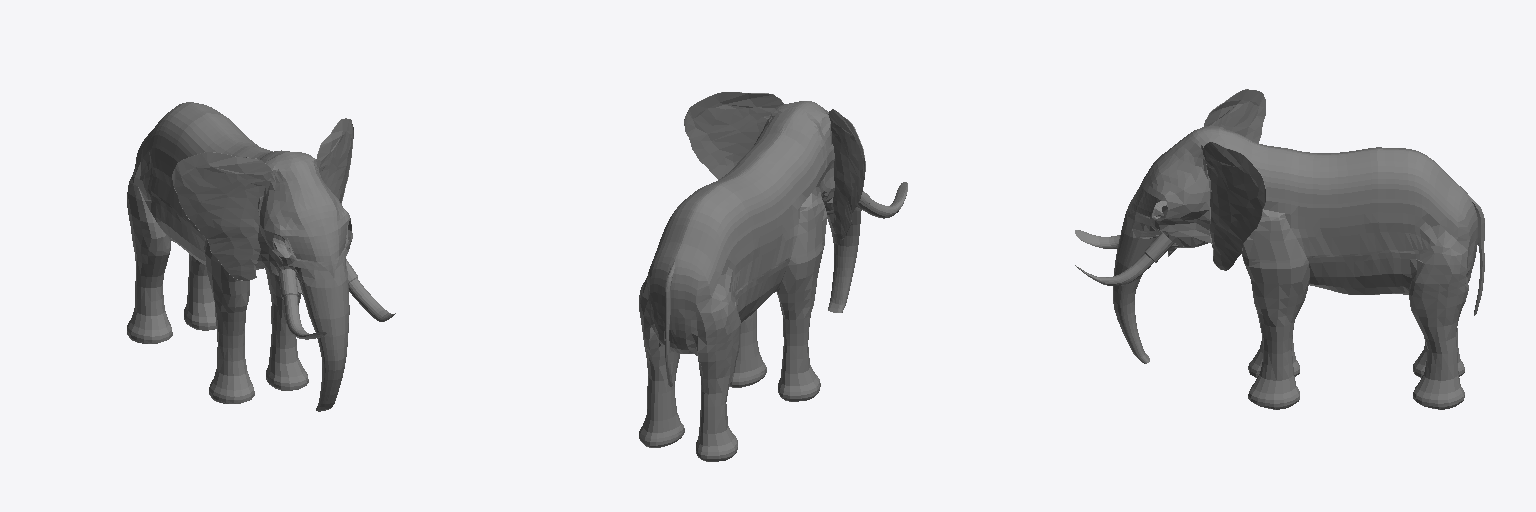
3 renders of one model, left to right at view 1: azimuth 30°, elevation 25°; view 2: azimuth 150°, elevation 25°; view 3: azimuth 270°, elevation 25°, orthographic.
Visible parts, largest first — view 1: Plane; view 2: Plane; view 3: Plane.
Part boxes in pixels (x1,y1,x2,y2): Plane: (127, 102, 395, 411); Plane: (639, 92, 907, 461); Plane: (1075, 89, 1484, 409).
Bounding box in the file's own units: 0.6339 × 0.8934 × 1.24.
1 materials, 1 textured.